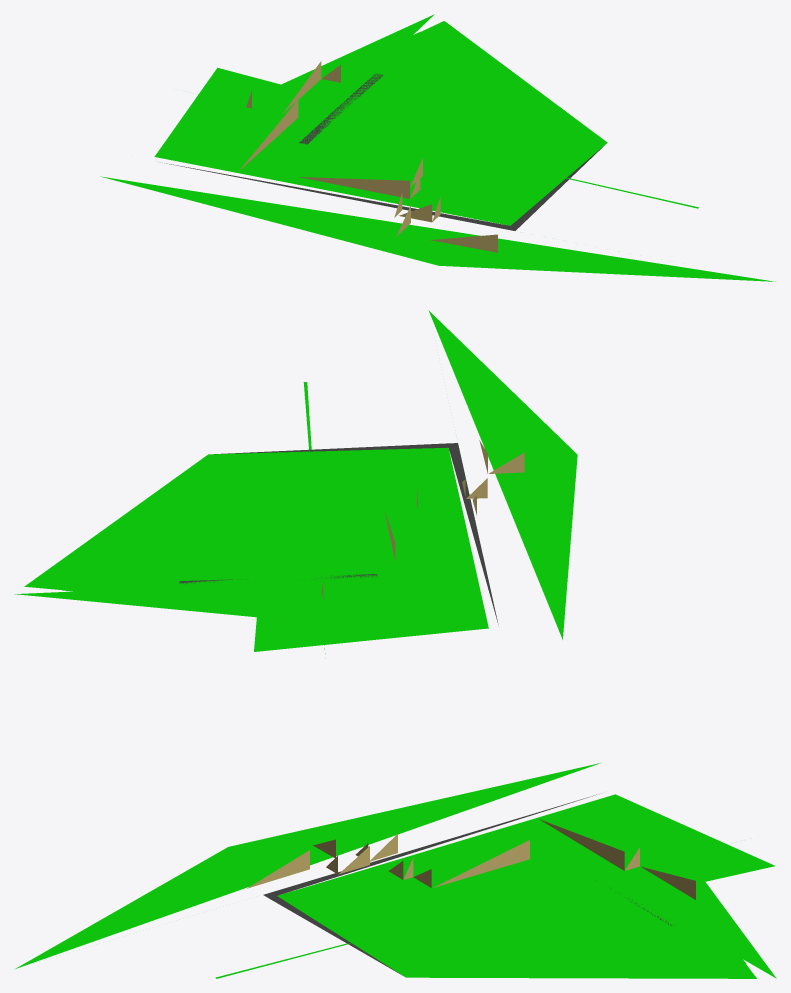
3 renders of one model, top to bottom at view 1: azimuth 30°, elevation 25°; view 2: azimuth 150°, elevation 25°; view 3: azimuth 270°, elevation 25°, orthographic. The views are drawn at different scales.
Size of the model in its own units: 239 by 7.5 by 267.
